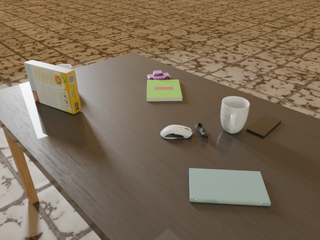book: (189, 168, 271, 206), (147, 79, 182, 101)
box: (24, 60, 81, 114)
cup: (221, 96, 249, 133)
mouse: (161, 125, 194, 139)
phone: (247, 115, 281, 137)
toy_car: (147, 70, 170, 80)
